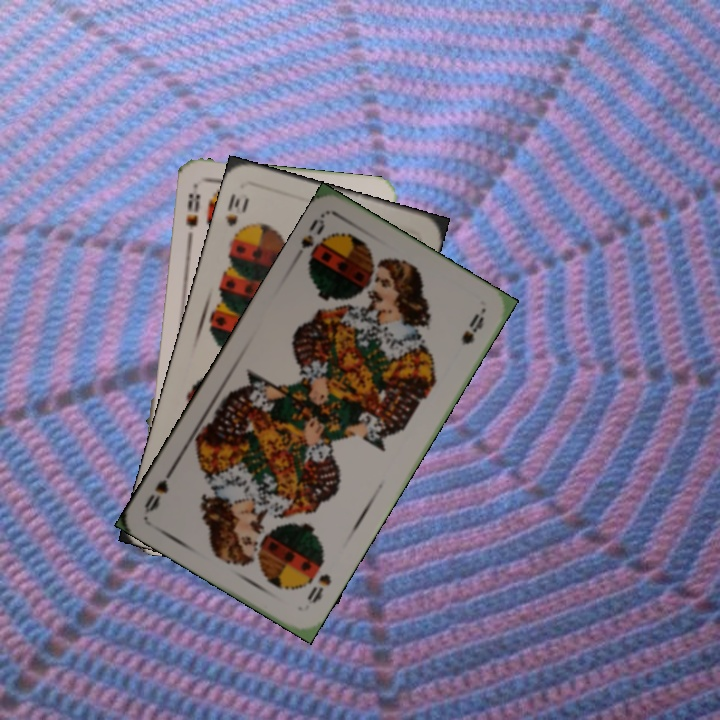S10: (221, 190, 252, 244)
S8: (181, 182, 203, 231)
SO: (289, 211, 331, 271), (302, 570, 334, 607)
